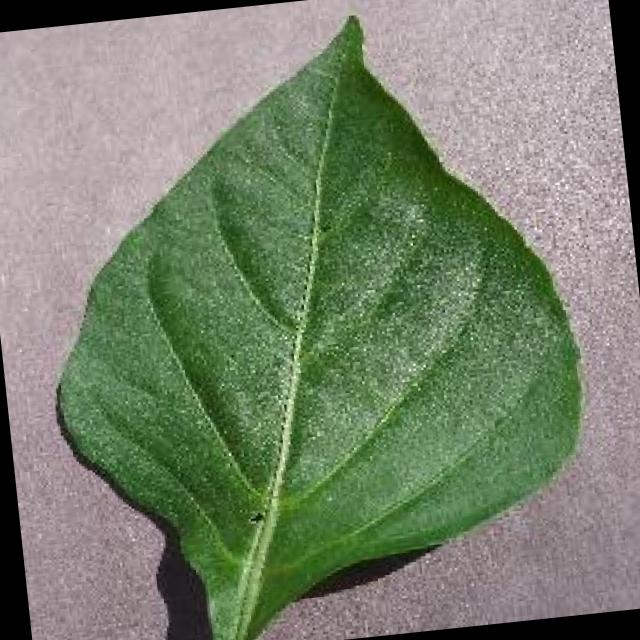Chilli_Healthy: (15, 0, 609, 640)
